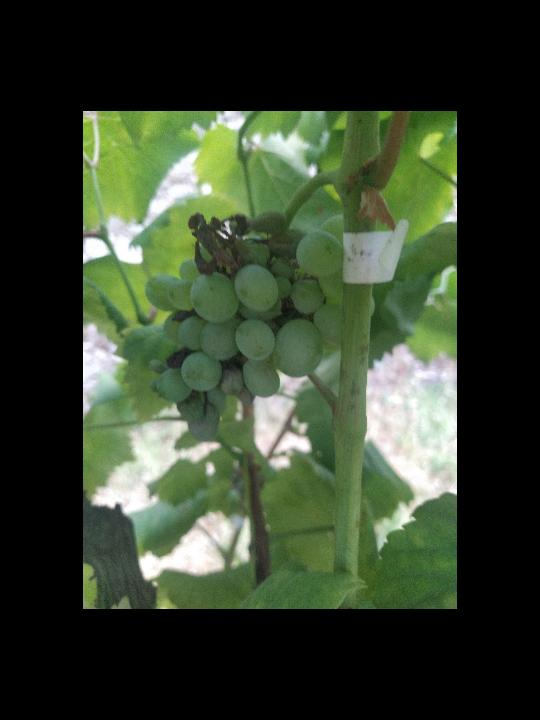grape: (141, 206, 343, 444)
